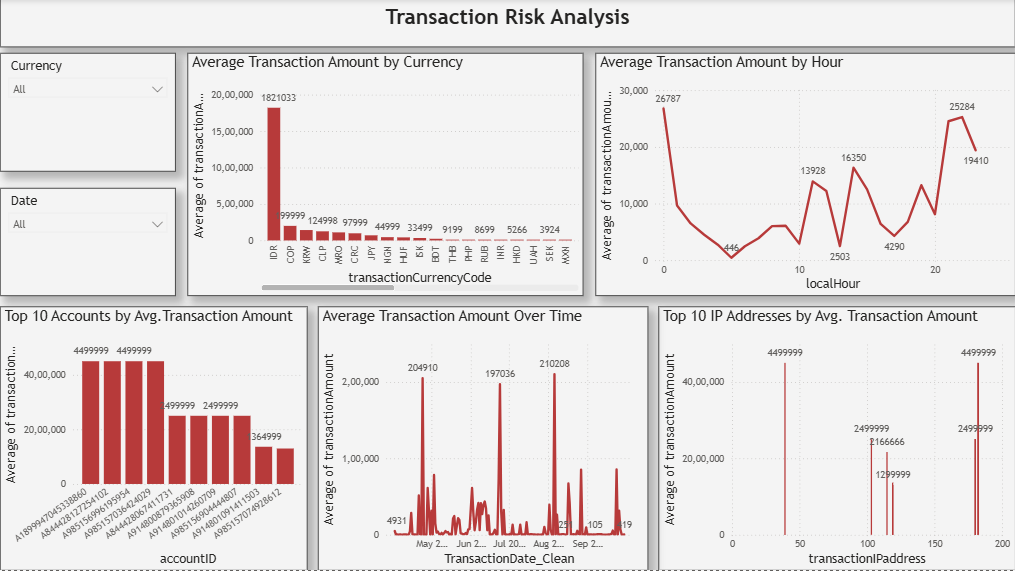

What the dashboard file says about the page in this screenshot:
{"tool":"powerbi","page":{"name":"Transaction Risk Analysis","canvas":[1280,720],"ordinal":1},"visuals":[{"type":"textbox","box":[0,0,1279.4,60.5],"z":0},{"type":"slicer","fields":{"Values":["fraudanalytics fraud_transactions.transactionCurrencyCode"]},"box":[0,68,221.1,149.3],"z":1000},{"type":"slicer","fields":{"Values":["fraudanalytics fraud_transactions.TransactionDate_Clean"]},"box":[0,238.1,221.1,136.1],"z":2000},{"type":"clusteredColumnChart","title":"Average Transaction Amount by Currency","fields":{"Category":["fraudanalytics fraud_transactions.transactionCurrencyCode"],"Y":["Avg(fraudanalytics fraud_transactions.transactionAmount)"]},"box":[236.2,68,498.9,306.1],"z":3000},{"type":"clusteredColumnChart","title":"Top 10 Accounts by  Avg.Transaction Amount","fields":{"Category":["fraudanalytics fraud_transactions.accountID"],"Y":["Avg(fraudanalytics fraud_transactions.transactionAmount)"]},"box":[0,387.4,387.4,332.6],"z":4000},{"type":"lineChart","title":"Average Transaction Amount by Hour","fields":{"Y":["Avg(fraudanalytics fraud_transactions.transactionAmount)"],"Category":["fraudanalytics fraud_transactions.localHour"]},"box":[750.2,68,529.1,306.1],"z":5000},{"type":"clusteredColumnChart","title":"Top 10 IP Addresses by Avg. Transaction Amount","fields":{"Category":["fraudanalytics fraud_transactions.transactionIPaddress"],"Y":["Avg(fraudanalytics fraud_transactions.transactionAmount)"]},"box":[829.6,387.4,449.8,332.6],"z":6000},{"type":"lineChart","title":"Average Transaction Amount Over Time","fields":{"Y":["Avg(fraudanalytics fraud_transactions.transactionAmount)"],"Category":["fraudanalytics fraud_transactions.TransactionDate_Clean"]},"box":[400.6,387.4,415.8,332.6],"z":7000}]}

Visuals, with their boxes in screenshot pixels (x1, y1, x2, y2), scaled from the page's 1280x720 canvas onto the 1015x571 screenshot:
textbox: {"left": 0, "top": 0, "right": 1014, "bottom": 48}
slicer - fraudanalytics fraud_transactions.transactionCurrencyCode: {"left": 0, "top": 54, "right": 175, "bottom": 172}
slicer - fraudanalytics fraud_transactions.TransactionDate_Clean: {"left": 0, "top": 189, "right": 175, "bottom": 297}
"Average Transaction Amount by Currency" clusteredColumnChart: {"left": 187, "top": 54, "right": 583, "bottom": 297}
"Top 10 Accounts by  Avg.Transaction Amount" clusteredColumnChart: {"left": 0, "top": 307, "right": 307, "bottom": 570}
"Average Transaction Amount by Hour" lineChart: {"left": 595, "top": 54, "right": 1014, "bottom": 297}
"Top 10 IP Addresses by Avg. Transaction Amount" clusteredColumnChart: {"left": 658, "top": 307, "right": 1014, "bottom": 570}
"Average Transaction Amount Over Time" lineChart: {"left": 318, "top": 307, "right": 647, "bottom": 570}
